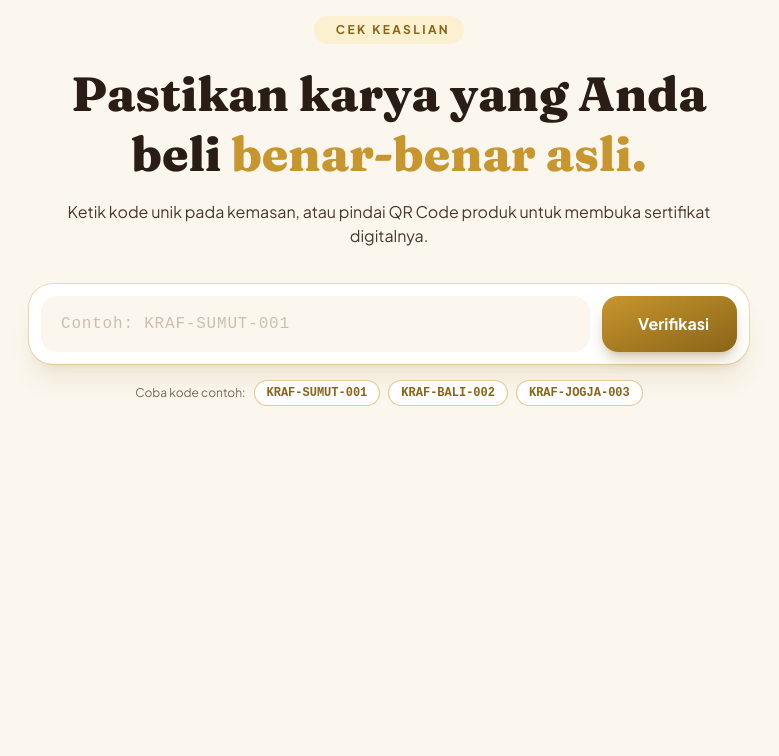
Test: VerifyPage › memverifikasi kode contoh saat chip diklik
Click the button with test id "sample-KRAF-JOGJA-003". click: (579, 393)
box: [516,380,643,406]
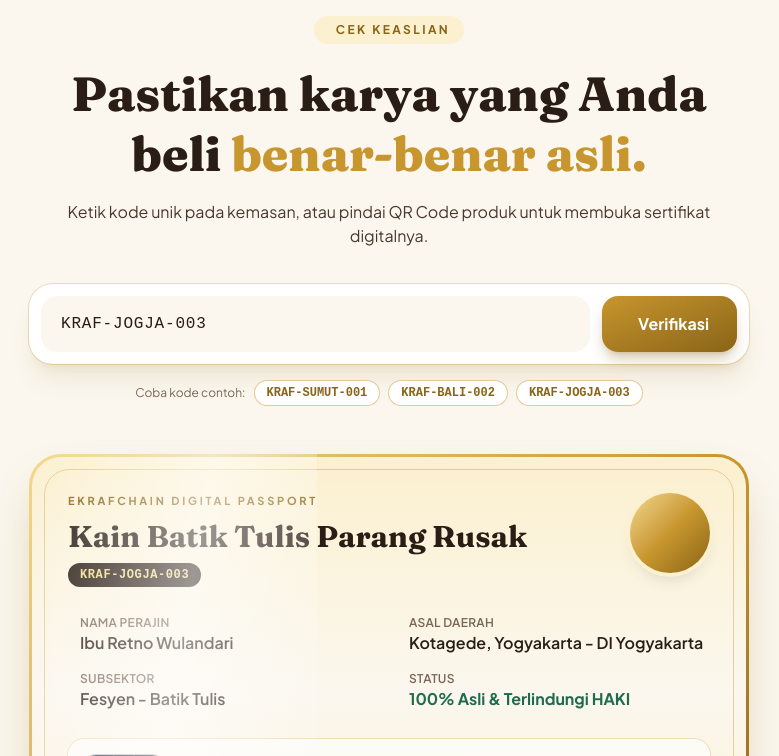
Expected: the field with test id "verify-code-input" holds "KRAF-JOGJA-003", [41,296,590,352]
